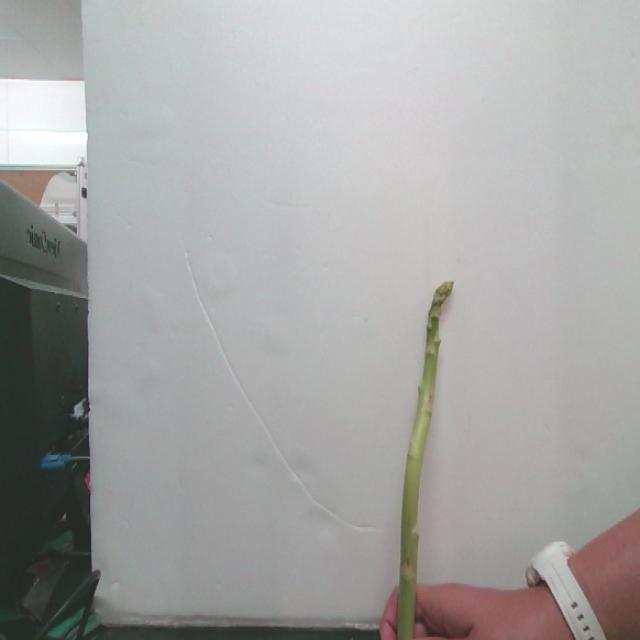aspargus: (392, 282, 452, 640)
